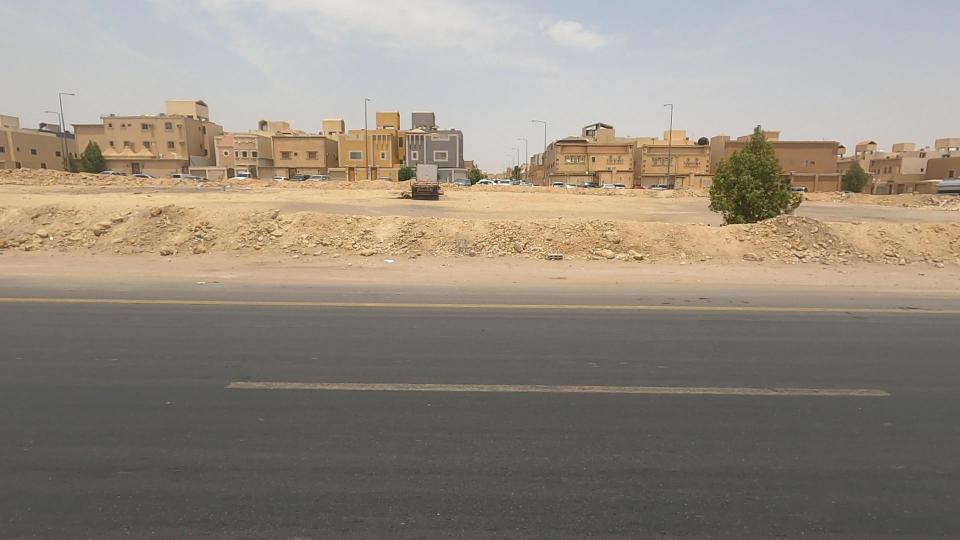GARBAGE: (356, 238, 418, 287)
